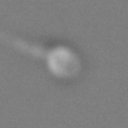normal: (1, 29, 47, 62)
